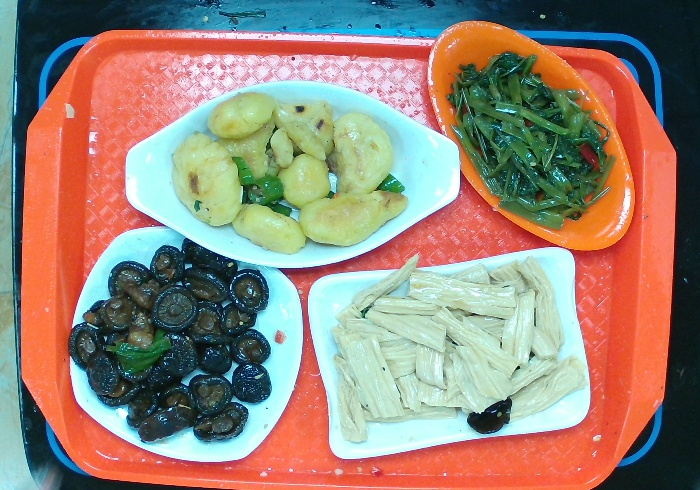RJxy-Ju_Huang_Tuo_Yuan: (424, 19, 637, 253)
RJxy-Si_Fang_Ao_Bian_Wan: (305, 244, 592, 462)
RJxy-Si_Fang_Die: (68, 224, 305, 464)
RJxy-Yu_Pan: (123, 78, 462, 271)
